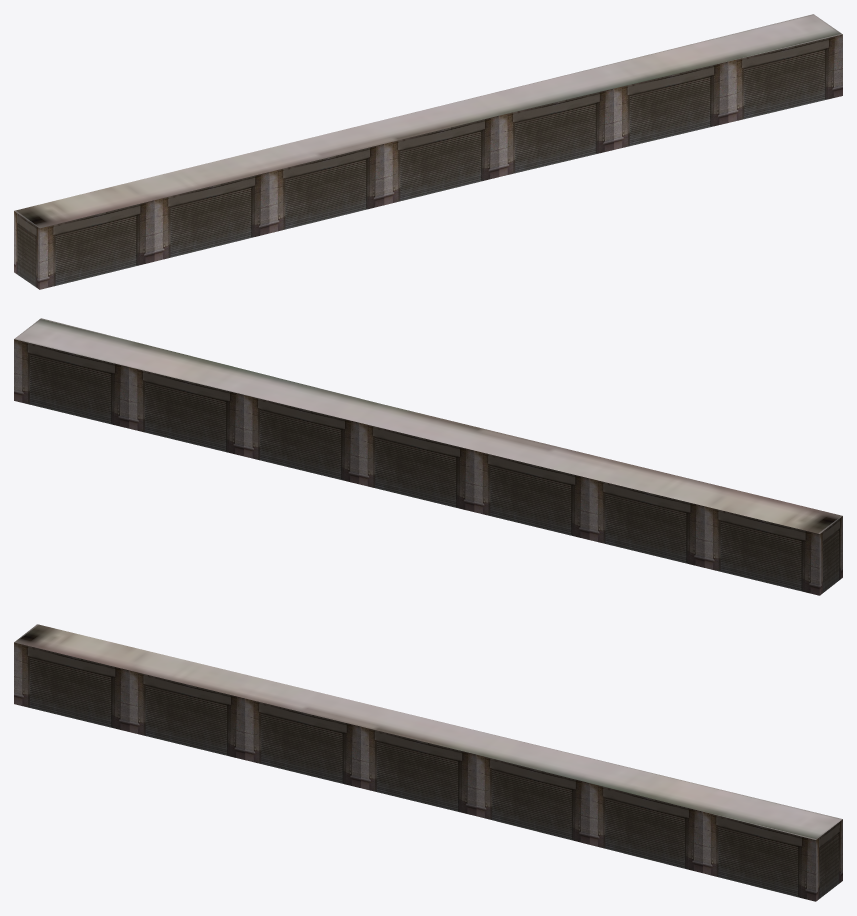
The model's file is E_1SGDQ4PLNP.dae.
3 renders of one model, top to bottom at view 1: azimuth 30°, elevation 25°; view 2: azimuth 150°, elevation 25°; view 3: azimuth 330°, elevation 25°, orthographic.
Parts seen in each view (by area): view 1: SketchUp (×4); view 2: SketchUp (×3); view 3: SketchUp (×4).
Boxes of the visible parts, box(x1,y1,x2,y2) form: SketchUp (×4): box(14, 14, 842, 289); SketchUp (×3): box(14, 318, 842, 595); SketchUp (×4): box(14, 624, 842, 901).
Bounding box in the file's own units: 40.85 × 2.48 × 2.99.
Materials: 2 (2 with a texture image).
